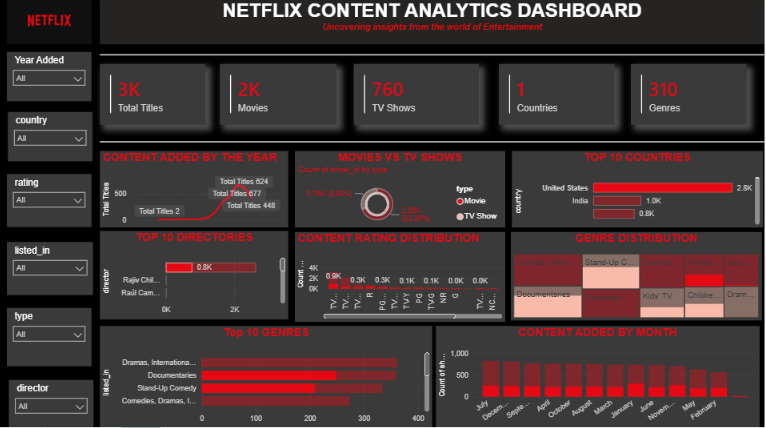

The page's visual inventory and layout, read from the dashboard file:
{"tool":"powerbi","page":{"name":"Page 1","canvas":[1280,720],"ordinal":0},"visuals":[{"type":"textbox","box":[168.8,0,1111.5,79.6],"z":0},{"type":"image","box":[0,0,168.8,79.6],"z":1000},{"type":"shape","box":[168.8,225,1111.5,32.9],"z":2000},{"type":"slicer","fields":{"Values":["netflix_titles.country"]},"box":[15.1,192.1,141.3,82.3],"z":3000},{"type":"slicer","fields":{"Values":["netflix_titles.Year Added"]},"box":[13.7,91.9,141.3,82.3],"z":4000},{"type":"slicer","fields":{"Values":["netflix_titles.rating"]},"box":[13.7,296.4,141.3,89.2],"z":5000},{"type":"slicer","fields":{"Values":["netflix_titles.type"]},"box":[13.7,520.1,141.3,97.4],"z":6000},{"type":"slicer","fields":{"Values":["netflix_titles.director"]},"box":[16.5,640.8,141.3,79.6],"z":7000},{"type":"slicer","fields":{"Values":["netflix_titles.listed_in"]},"box":[13.7,410.3,144.1,89.2],"z":8000},{"type":"cardVisual","fields":{"Data":["netflix_titles.Total Titles"]},"box":[168.8,112.5,177,101.5],"z":9000},{"type":"cardVisual","fields":{"Data":["netflix_titles.Movies"]},"box":[370.5,112.5,194.9,101.5],"z":10000},{"type":"cardVisual","fields":{"Data":["netflix_titles.TV Shows"]},"box":[594.2,112.5,208.6,101.5],"z":11000},{"type":"cardVisual","fields":{"Data":["netflix_titles.Countries"]},"box":[835.7,112.5,193.5,101.5],"z":12000},{"type":"cardVisual","fields":{"Data":["netflix_titles.Genres"]},"box":[1058,112.5,193.5,101.5],"z":13000},{"type":"lineChart","title":"CONTENT ADDED BY THE YEAR","fields":{"Category":["netflix_titles.Year Added"],"Y":["netflix_titles.Total Titles"]},"box":[168.6,258,315.3,128.1],"z":14000},{"type":"donutChart","title":"MOVIES VS TV SHOWS","fields":{"Category":["netflix_titles.type"],"Y":["CountNonNull(netflix_titles.show_id)"]},"box":[495.7,258,352.4,128.1],"z":15000},{"type":"shape","box":[168.8,79.6,1111.5,32.9],"z":16000},{"type":"clusteredBarChart","title":"TOP 10 COUNTRIES","fields":{"Category":["netflix_titles.country"],"Y":["CountNonNull(netflix_titles.show_id)"]},"box":[858.2,258,419.8,128.1],"z":17000},{"type":"clusteredBarChart","title":"TOP 10 DIRECTORIES","fields":{"Category":["netflix_titles.director"],"Y":["CountNonNull(netflix_titles.show_id)"]},"box":[168.6,391.2,315.3,148.4],"z":18000},{"type":"clusteredColumnChart","title":"CONTENT RATING DISTRIBUTION","fields":{"Y":["CountNonNull(netflix_titles.show_id)"],"Category":["netflix_titles.rating"]},"box":[495.7,392.8,352.4,150.1],"z":19000},{"type":"treemap","title":"GENRE DISTRIBUTION","fields":{"Group":["netflix_titles.listed_in"],"Values":["CountNonNull(netflix_titles.show_id)"]},"box":[856.5,392.8,419.8,148.4],"z":20000},{"type":"clusteredBarChart","title":"Top 10 GENRES","fields":{"Category":["netflix_titles.listed_in"],"Y":["CountNonNull(netflix_titles.show_id)"]},"box":[168.6,549.6,556.4,170.3],"z":20001},{"type":"clusteredColumnChart","title":"CONTENT ADDED BY MONTH","fields":{"Category":["netflix_titles.Month Added"],"Y":["CountNonNull(netflix_titles.show_id)"]},"box":[731.7,549.6,541.2,170.3],"z":20002}]}

Visuals, with their boxes in screenshot pixels (x1, y1, x2, y2), scaled from the page's 1280x720 canvas onto the 766x428 screenshot:
textbox: <region>101, 0, 765, 47</region>
image: <region>0, 0, 101, 47</region>
shape: <region>101, 134, 765, 153</region>
slicer - netflix_titles.country: <region>9, 114, 94, 163</region>
slicer - netflix_titles.Year Added: <region>8, 55, 93, 104</region>
slicer - netflix_titles.rating: <region>8, 176, 93, 229</region>
slicer - netflix_titles.type: <region>8, 309, 93, 367</region>
slicer - netflix_titles.director: <region>10, 381, 94, 427</region>
slicer - netflix_titles.listed_in: <region>8, 244, 94, 297</region>
cardVisual - netflix_titles.Total Titles: <region>101, 67, 207, 127</region>
cardVisual - netflix_titles.Movies: <region>222, 67, 338, 127</region>
cardVisual - netflix_titles.TV Shows: <region>356, 67, 480, 127</region>
cardVisual - netflix_titles.Countries: <region>500, 67, 616, 127</region>
cardVisual - netflix_titles.Genres: <region>633, 67, 749, 127</region>
"CONTENT ADDED BY THE YEAR" lineChart: <region>101, 153, 290, 230</region>
"MOVIES VS TV SHOWS" donutChart: <region>297, 153, 508, 230</region>
shape: <region>101, 47, 765, 67</region>
"TOP 10 COUNTRIES" clusteredBarChart: <region>514, 153, 765, 230</region>
"TOP 10 DIRECTORIES" clusteredBarChart: <region>101, 233, 290, 321</region>
"CONTENT RATING DISTRIBUTION" clusteredColumnChart: <region>297, 233, 508, 323</region>
"GENRE DISTRIBUTION" treemap: <region>513, 233, 764, 322</region>
"Top 10 GENRES" clusteredBarChart: <region>101, 327, 434, 427</region>
"CONTENT ADDED BY MONTH" clusteredColumnChart: <region>438, 327, 762, 427</region>
